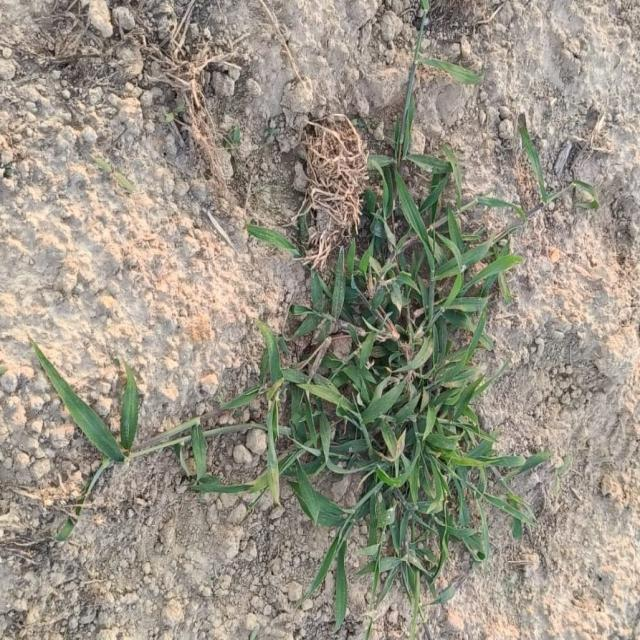weed: (32, 0, 548, 630)
